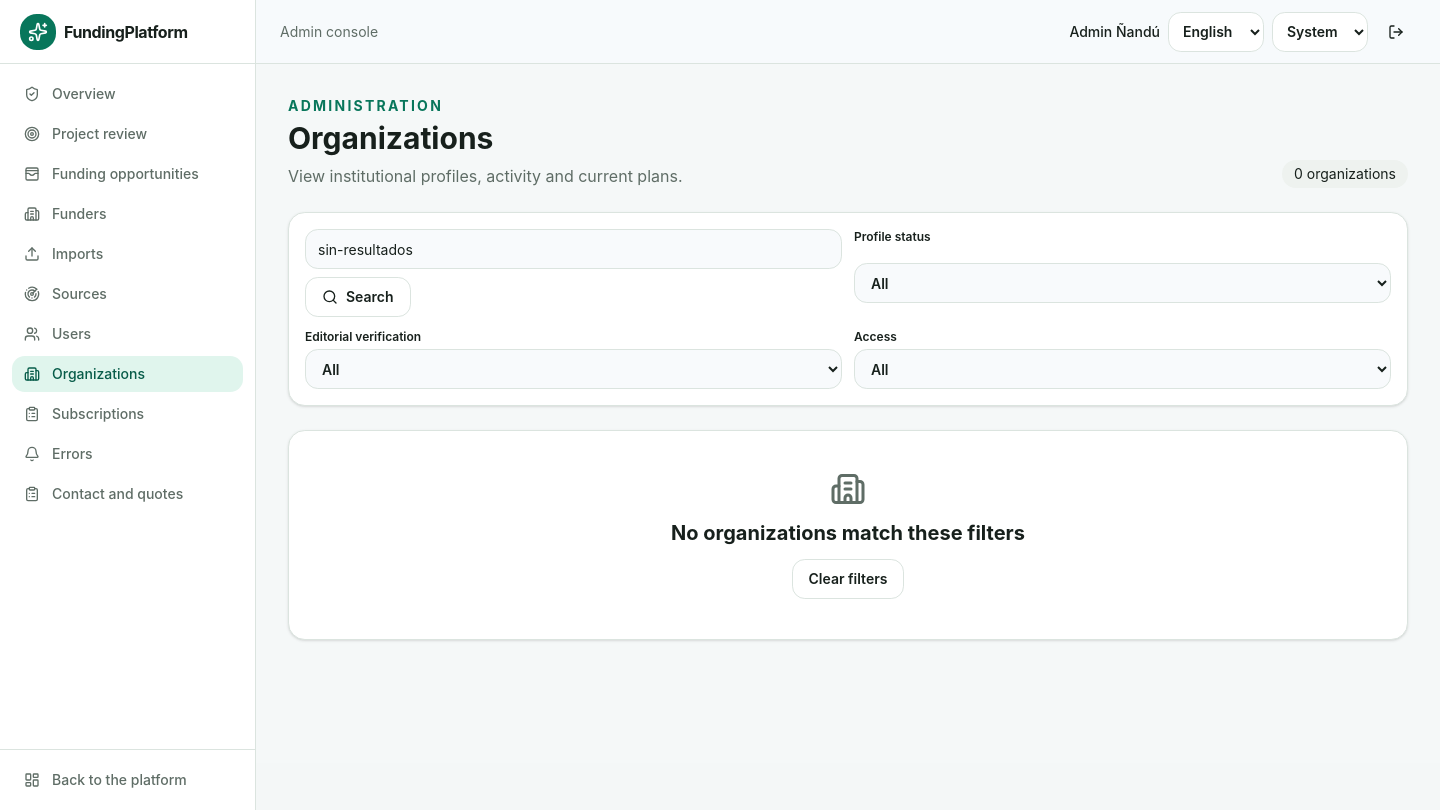
Test: I18N05D operational read views › translates empty state and clears filters explicitly on /admin/organizations
Expected: the heading "Organizations" is shown, [288,120,493,156]
Expected: the heading "No organizations match these filters" is shown, [671,521,1025,545]
Click the button "Clear filters" at (848, 579), box [792,559,904,599]
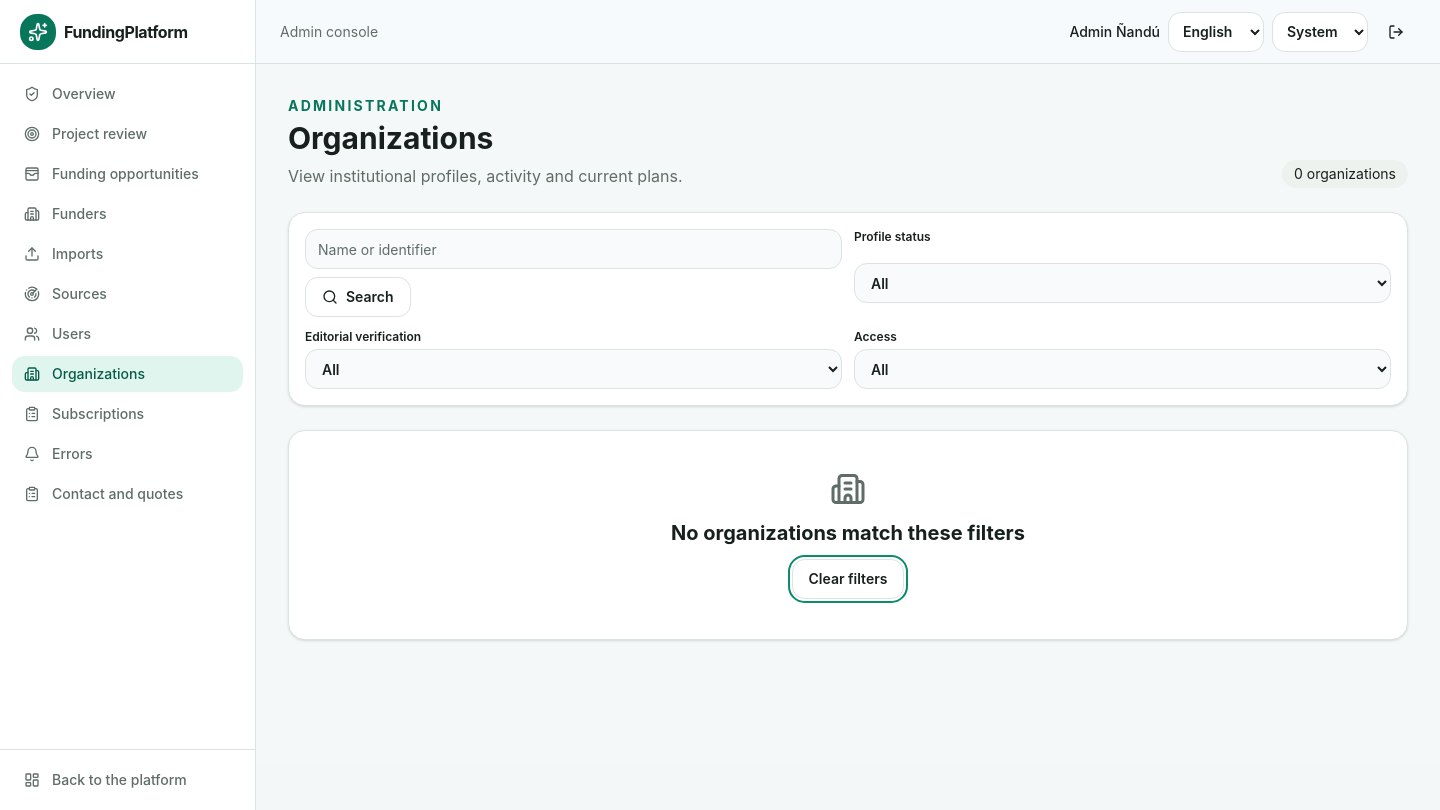
Expected: the field named "Search organizations" is empty, [305,229,842,269]
